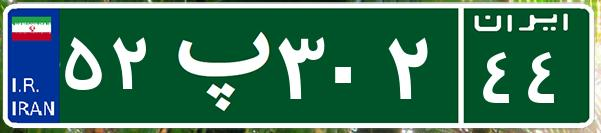0: (330, 28, 385, 110)
2: (385, 28, 445, 110), (110, 28, 158, 105)
3: (273, 28, 330, 110)
4: (475, 38, 525, 113), (525, 38, 570, 115)
5: (57, 26, 110, 107)
پ: (158, 15, 273, 115)
